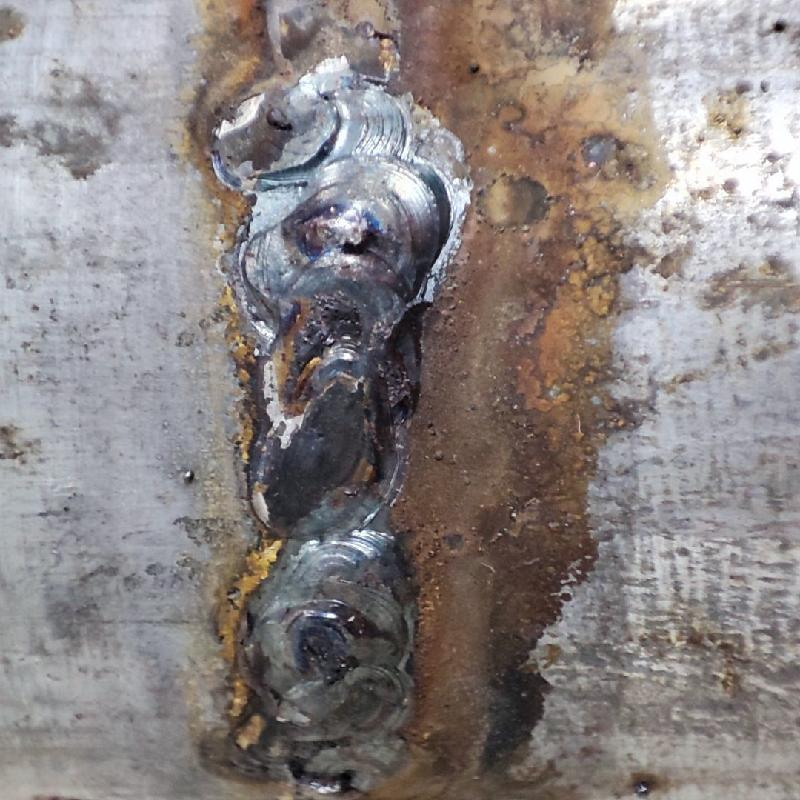Not_fully_soldered: (205, 2, 418, 174)
